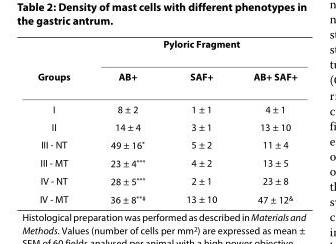table: (36, 36, 296, 205)
table column: (89, 36, 165, 205), (165, 36, 234, 205), (234, 36, 296, 205), (36, 36, 89, 205)
table column header: (36, 36, 296, 92)
table row: (36, 59, 296, 92), (36, 92, 296, 117), (36, 36, 296, 59), (36, 117, 296, 135), (36, 135, 296, 153), (36, 153, 296, 171), (36, 171, 296, 189), (36, 189, 296, 205)
table spanning cell: (89, 36, 296, 59), (36, 36, 89, 92)
